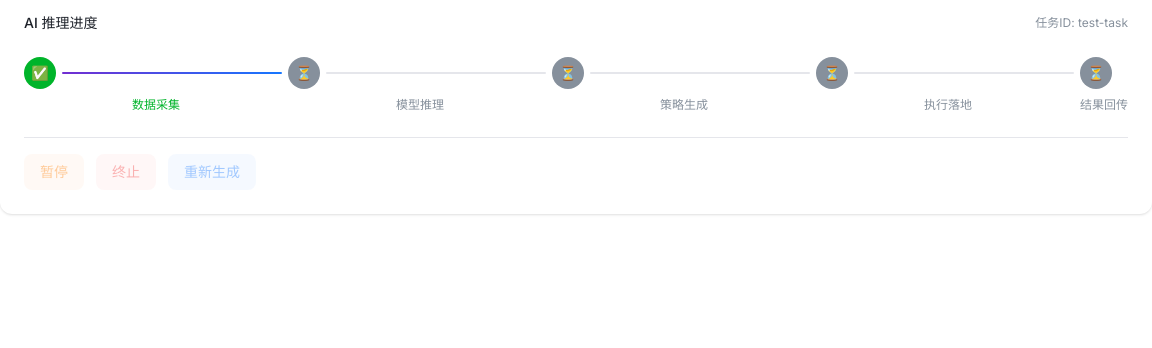
Test case: AIStepProgress › expands step details on click for completed step
The width and height of the screenshot is (1152, 348).
Click the button with test id "step-dot-0" at (40, 73), box [24,57,56,89]
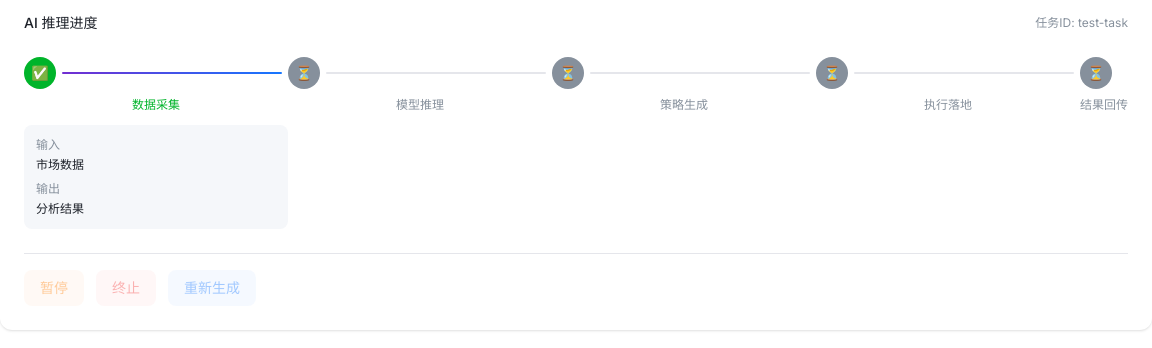
Now the element with test id "step-detail-0" is shown, box [24,125,288,229]
Now the element with test id "step-detail-0" shows "市场数据", box [36,157,84,172]
Now the element with test id "step-detail-0" shows "分析结果", box [36,201,84,216]
